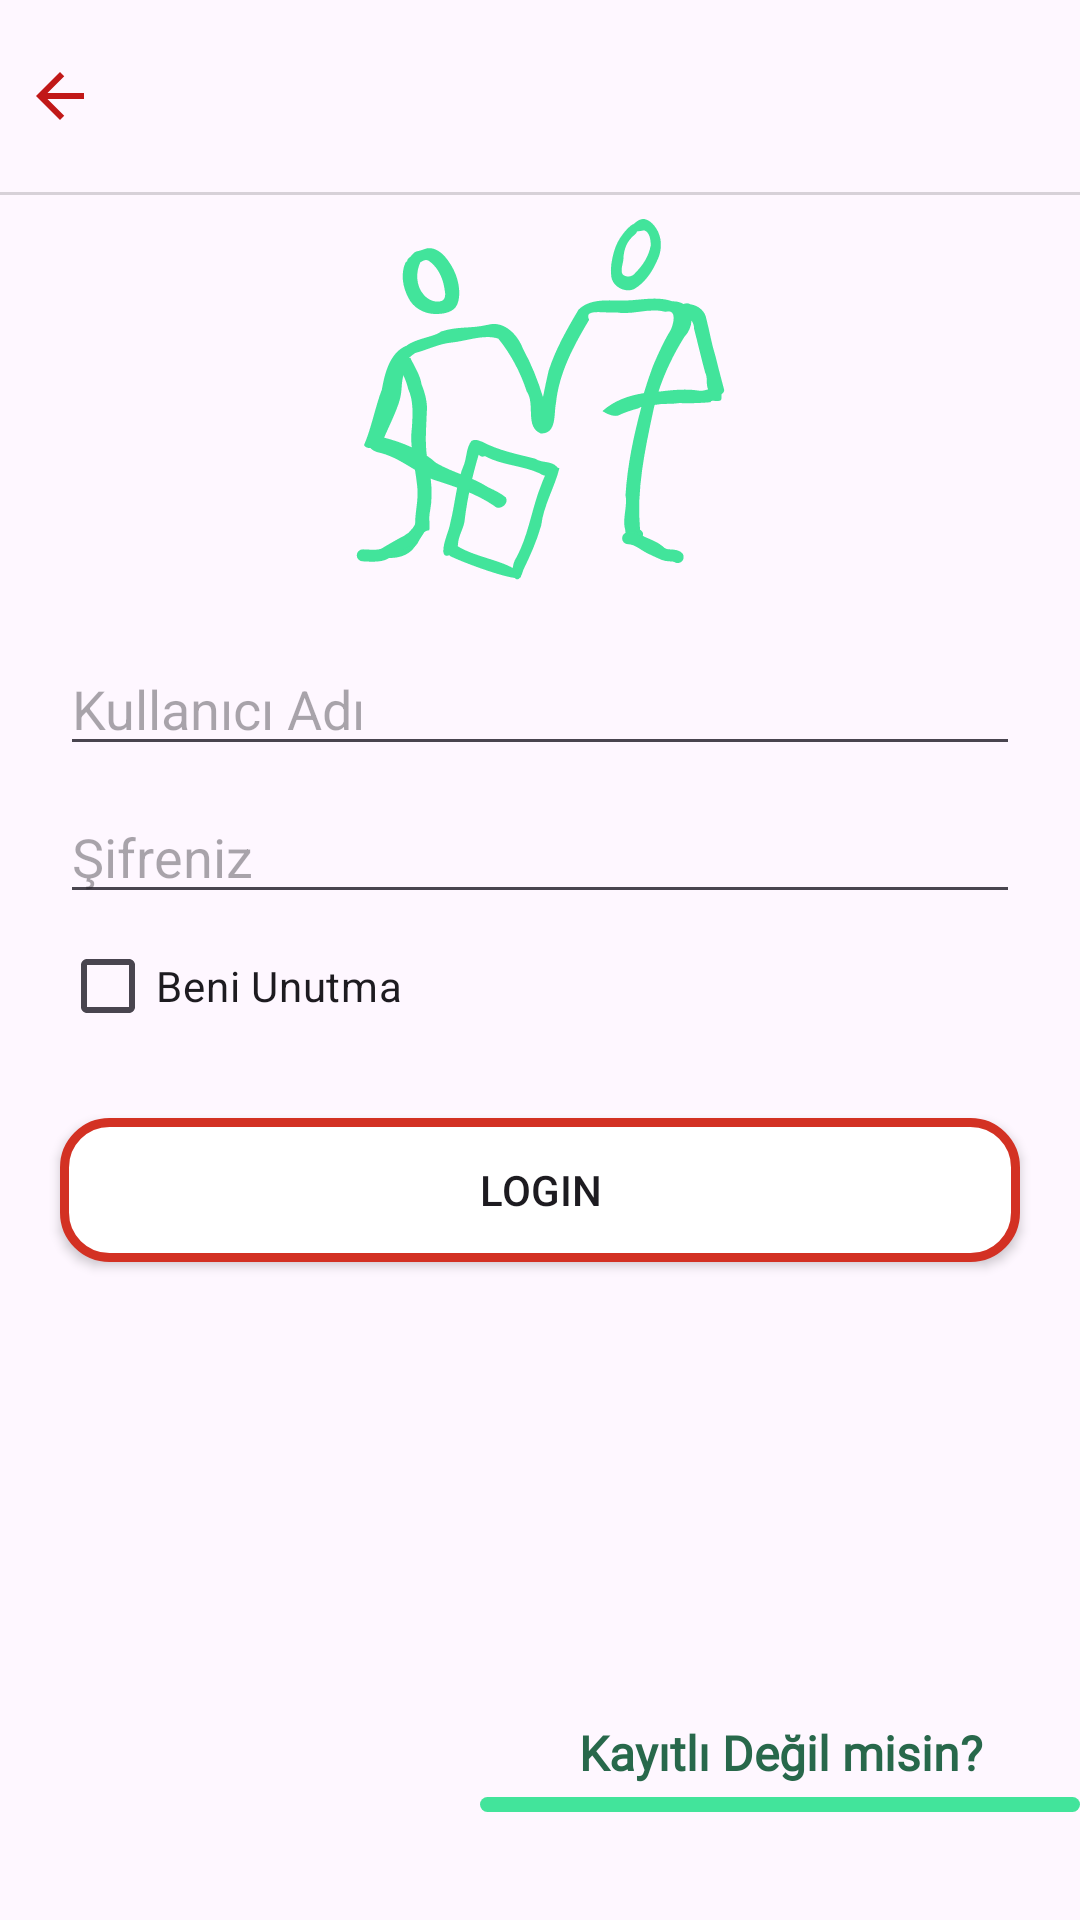

Where icons sit on this 1080x1920 app screen, as box(x1, y1, x2, y2):
arrow back: box(36, 72, 84, 120)
